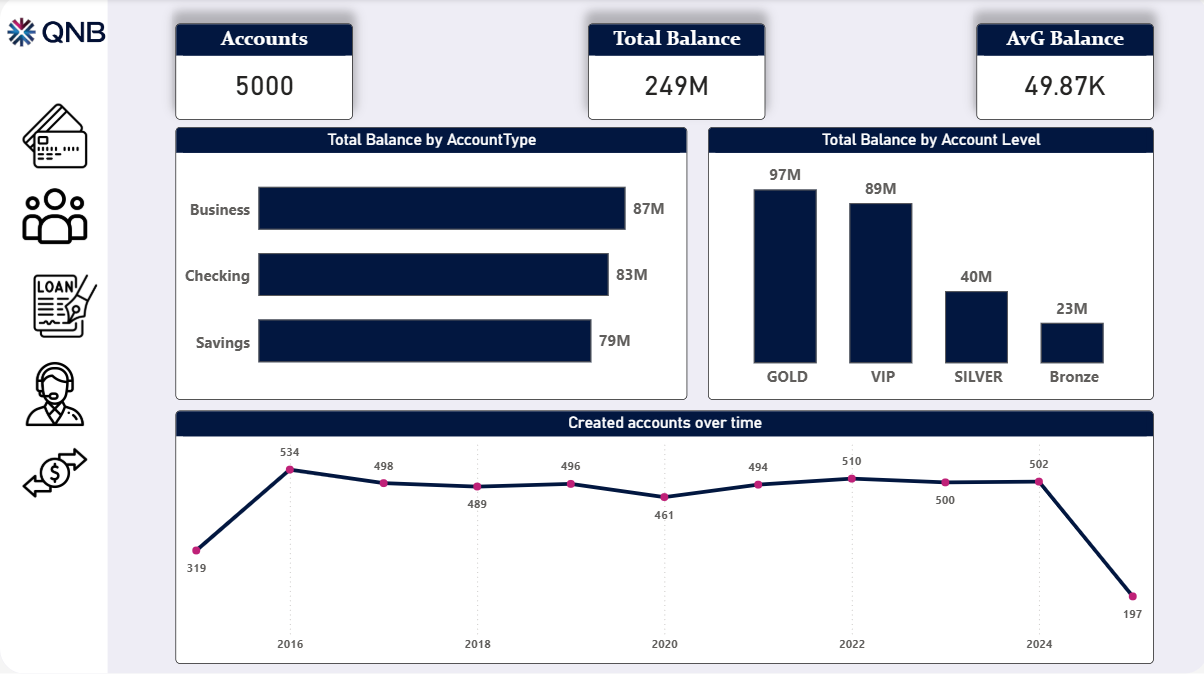

What the dashboard file says about the page in this screenshot:
{"tool":"powerbi","page":{"name":"Account","canvas":[1280,720],"ordinal":2},"visuals":[{"type":"image","box":[23.9,98.6,68.4,95.4],"z":0},{"type":"image","box":[23.9,194.1,68.4,74.8],"z":1000},{"type":"image","box":[23.9,370.6,68.4,98.6],"z":2000},{"type":"image","box":[23.9,456.5,68.4,93.8],"z":3000},{"type":"image","box":[0,0,117.7,77.9],"z":4000},{"type":"image","box":[35,281.5,68.4,89.1],"z":5000},{"type":"card","title":"Accounts","fields":{"Values":["_Measure.Total Accounts"]},"box":[186.1,27,187.7,101.8],"z":6000},{"type":"card","title":"Total Balance","fields":{"Values":["_Measure.Total Balance"]},"box":[623.5,27,187.7,101.8],"z":7000},{"type":"card","title":"AvG Balance","fields":{"Values":["_Measure.AvG Balance"]},"box":[1035.5,27,187.7,101.8],"z":8000},{"type":"barChart","fields":{"Category":["Accounts.AccountType"],"Y":["_Measure.Total Balance"]},"box":[186.1,136.8,542.4,289.5],"z":9000},{"type":"lineChart","title":"Created accounts over time","fields":{"Category":["Calender.Date.Variation.Date Hierarchy.Year"],"Y":["CountNonNull(Accounts.CreatedDate)"]},"box":[186.1,437.4,1037.1,268.8],"z":10000},{"type":"clusteredColumnChart","fields":{"Category":["Accounts.Account Level"],"Y":["_Measure.Total Balance"]},"box":[750.8,136.8,472.4,289.5],"z":11000}]}

Visuals, with their boxes in screenshot pixels (x1, y1, x2, y2), scaled from the page's 1280x720 canvas onto the 1204x676 screenshot:
image: select_region(22, 93, 87, 182)
image: select_region(22, 182, 87, 252)
image: select_region(22, 348, 87, 441)
image: select_region(22, 429, 87, 517)
image: select_region(0, 0, 111, 73)
image: select_region(33, 264, 97, 348)
"Accounts" card: select_region(175, 25, 352, 121)
"Total Balance" card: select_region(586, 25, 763, 121)
"AvG Balance" card: select_region(974, 25, 1151, 121)
barChart - Accounts.AccountType x _Measure.Total Balance: select_region(175, 128, 685, 400)
"Created accounts over time" lineChart: select_region(175, 411, 1151, 663)
clusteredColumnChart - Accounts.Account Level x _Measure.Total Balance: select_region(706, 128, 1151, 400)
